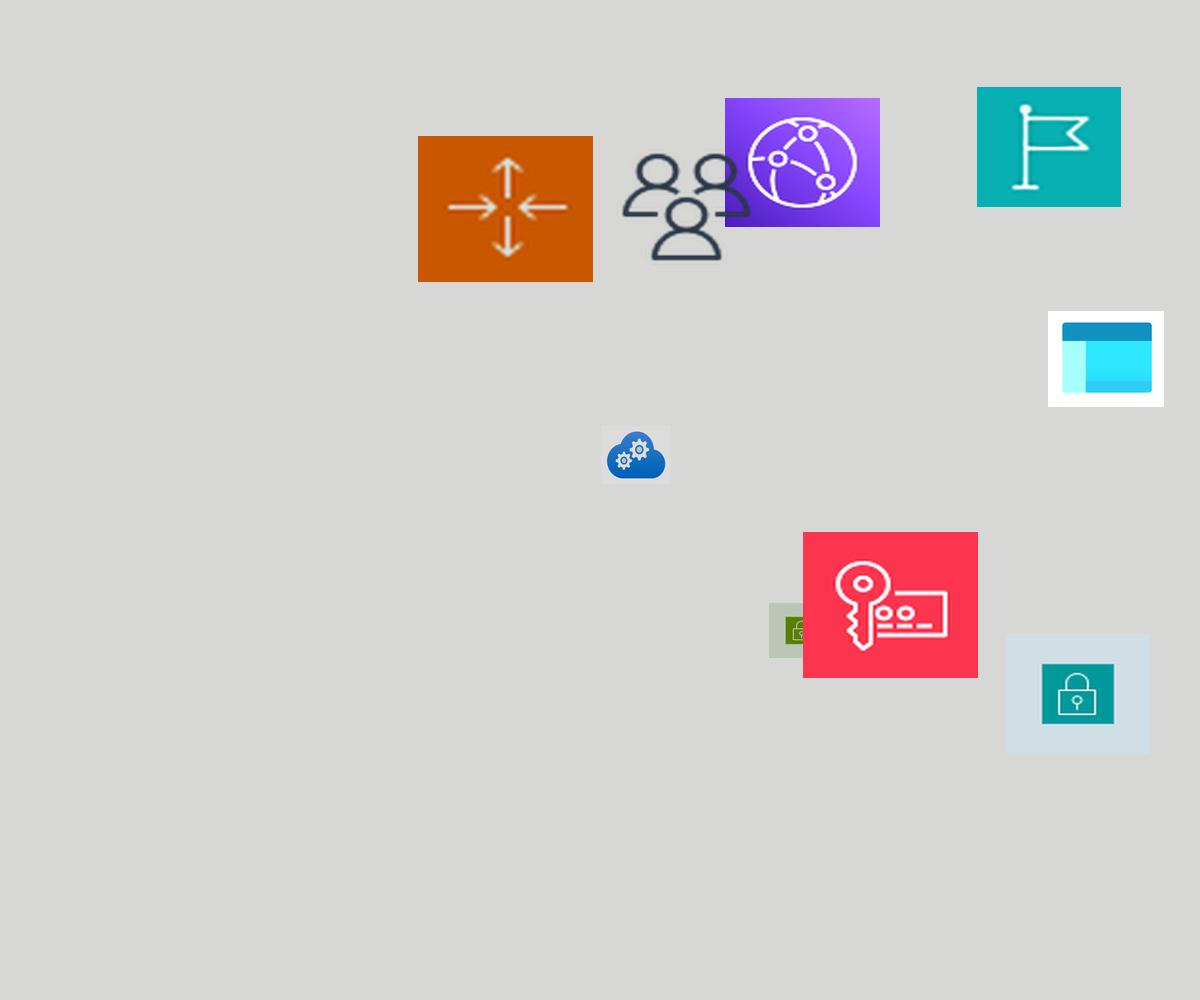AWS-CloudFront: (725, 98, 880, 227)
AWS-Key-Management-Service: (803, 532, 978, 678)
AWS-Private-subnet: (1006, 634, 1150, 754)
AWS-Public-subnet: (769, 603, 835, 658)
AWS-Region: (977, 87, 1121, 207)
AWS-Res_Users: (617, 149, 756, 265)
AWS-Scaling-group: (418, 136, 593, 282)
Azure_cloud_services: (601, 426, 671, 484)
Azure_management-portal: (1048, 311, 1164, 407)
